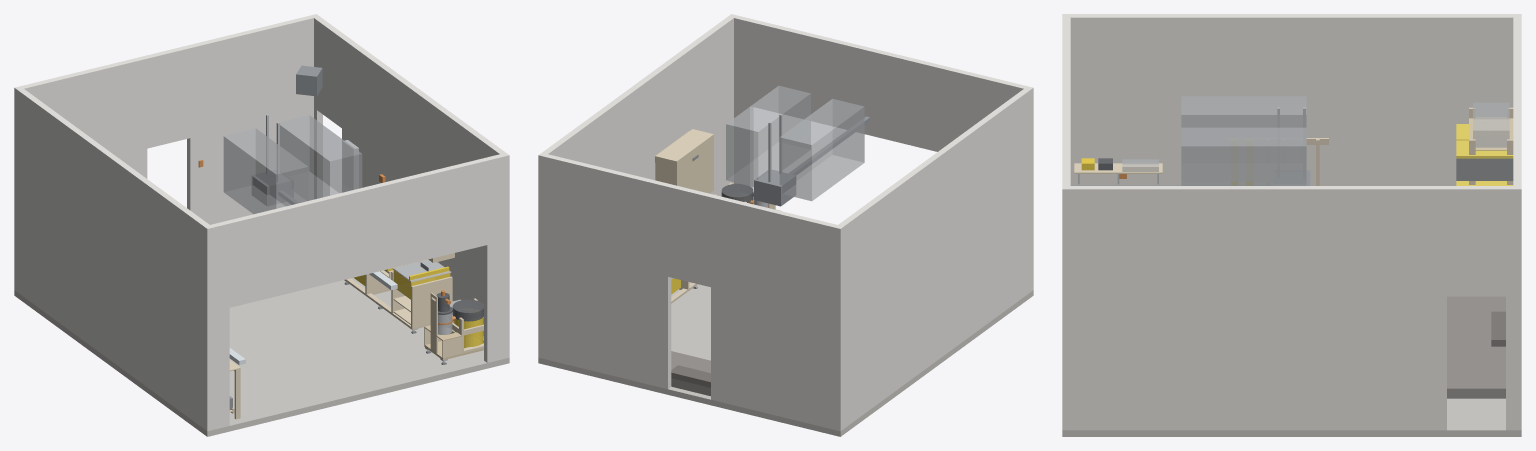
The model's file is garage-shop-miter.glb.
3 views of the same model, side by side, from view 1: azimuth 30°, elevation 25°; view 2: azimuth 150°, elevation 25°; view 3: azimuth 270°, elevation 25° (orthographic). The views are drawn at different scales.
Parts seen in each view (by area): view 1: Wall West/west wall, Wall North/north wall, Slab/slab, Wall South/door header, Wall East/east wall, Bike Hoists/bike 1, Wall South/south return west, Bike Hoists/bike 2, Wall South/south return east, Flip Bench/end panel S, Garage Opener/motor, Heater/unit heater (+3 smaller); view 2: Wall North/north wall, Wall West/west wall, Wall South/door header, Wall East/east wall, Bike Hoists/bike 1, Bike Hoists/bike 2, Slab/slab, Wall South/south return east, Garage Opener/motor, Wall South/south return west, Door South/face, Landing/landing (+5 smaller); view 3: Wall East/east wall, Wall West/west wall, Bike Hoists/bike 1, Bike Hoists/bike 2, Landing/landing, Slab/slab, Wall North/north wall, Wall South/south return east, Bulk Rack/light bins, Bulk Rack/shelf 4, Wall South/door header, Bulk Rack/tote 3-2 (+5 smaller).
Part boxes in pixels (box(x1,y1,x2,y2)): Wall West/west wall: box(18, 89, 209, 428); Wall North/north wall: box(14, 14, 319, 292); Slab/slab: box(14, 277, 509, 436); Wall South/door header: box(226, 158, 487, 307); Wall East/east wall: box(314, 16, 505, 335); Bike Hoists/bike 1: box(223, 128, 308, 214); Wall South/south return west: box(204, 221, 229, 431); Bike Hoists/bike 2: box(279, 115, 362, 200); Wall South/south return east: box(484, 153, 509, 362); Flip Bench/end panel S: box(411, 276, 452, 327); Garage Opener/motor: box(252, 170, 293, 205); Heater/unit heater: box(296, 65, 322, 96); Wall North/north wall: box(538, 153, 843, 431); Wall West/west wall: box(838, 89, 1029, 428); Wall South/door header: box(750, 19, 1010, 151); Wall East/east wall: box(542, 16, 733, 196); Bike Hoists/bike 1: box(779, 98, 864, 201); Bike Hoists/bike 2: box(726, 85, 810, 186); Slab/slab: box(538, 282, 1033, 436); Wall South/south return east: box(728, 14, 753, 198); Garage Opener/motor: box(754, 169, 796, 206); Wall South/south return west: box(1008, 82, 1033, 292); Door South/face: box(695, 134, 713, 193); Landing/landing: box(671, 351, 710, 396); Wall East/east wall: box(1070, 186, 1513, 430); Wall West/west wall: box(1070, 14, 1513, 185); Bike Hoists/bike 1: box(1181, 96, 1306, 181); Bike Hoists/bike 2: box(1181, 127, 1306, 185); Landing/landing: box(1447, 296, 1505, 398); Slab/slab: box(1062, 398, 1521, 436); Wall North/north wall: box(1513, 14, 1521, 430); Wall South/south return east: box(1062, 176, 1070, 430); Bulk Rack/light bins: box(1473, 102, 1509, 147); Bulk Rack/shelf 4: box(1469, 117, 1513, 150); Wall South/door header: box(1062, 27, 1070, 176); Bulk Rack/tote 3-2: box(1456, 158, 1513, 180).
Size of the model in its own units: 225 by 148 by 249.
